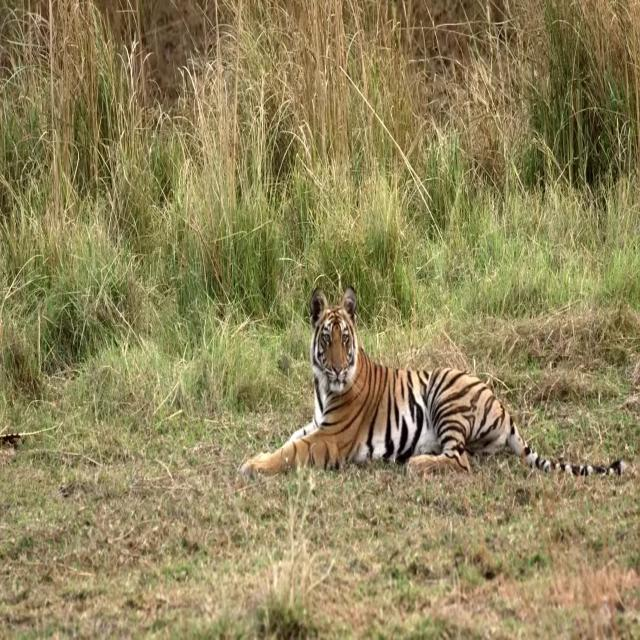tiger: (240, 284, 622, 498)
